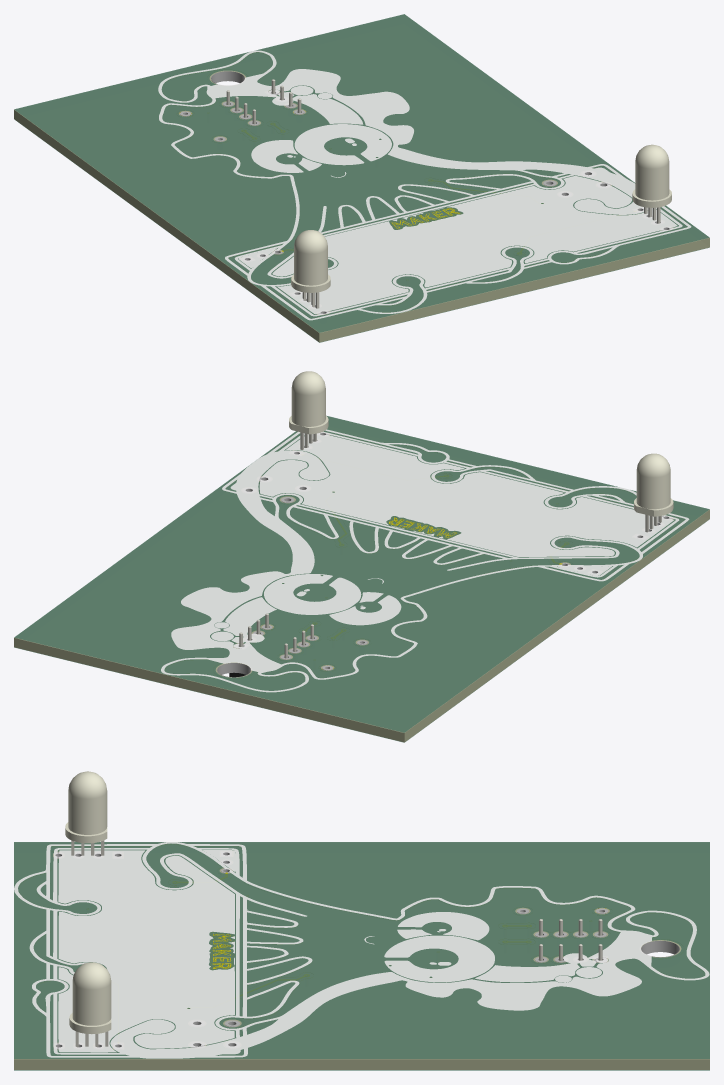
Rendered from oshwdem-2019-badge-oshwi-2019.glb.
3 renders of one model, top to bottom at view 1: azimuth 30°, elevation 25°; view 2: azimuth 150°, elevation 25°; view 3: azimuth 270°, elevation 25°, orthographic. The views are drawn at different scales.
Parts seen in each view (by area): view 1: =>[0:1:1:9], =>[0:1:1:3]; view 2: =>[0:1:1:9], =>[0:1:1:3]; view 3: =>[0:1:1:9], =>[0:1:1:3].
Part boxes in pixels (x1,y1,x2,y2): =>[0:1:1:9]: (14,14,709,342); =>[0:1:1:3]: (179,71,671,314); =>[0:1:1:9]: (14,415,709,742); =>[0:1:1:3]: (217,371,673,677); =>[0:1:1:9]: (14,842,709,1070); =>[0:1:1:3]: (55,771,679,1049).
Size of the model in its own units: 0.0659 by 0.0173 by 0.0893.
Materials: 2 (2 with a texture image).
